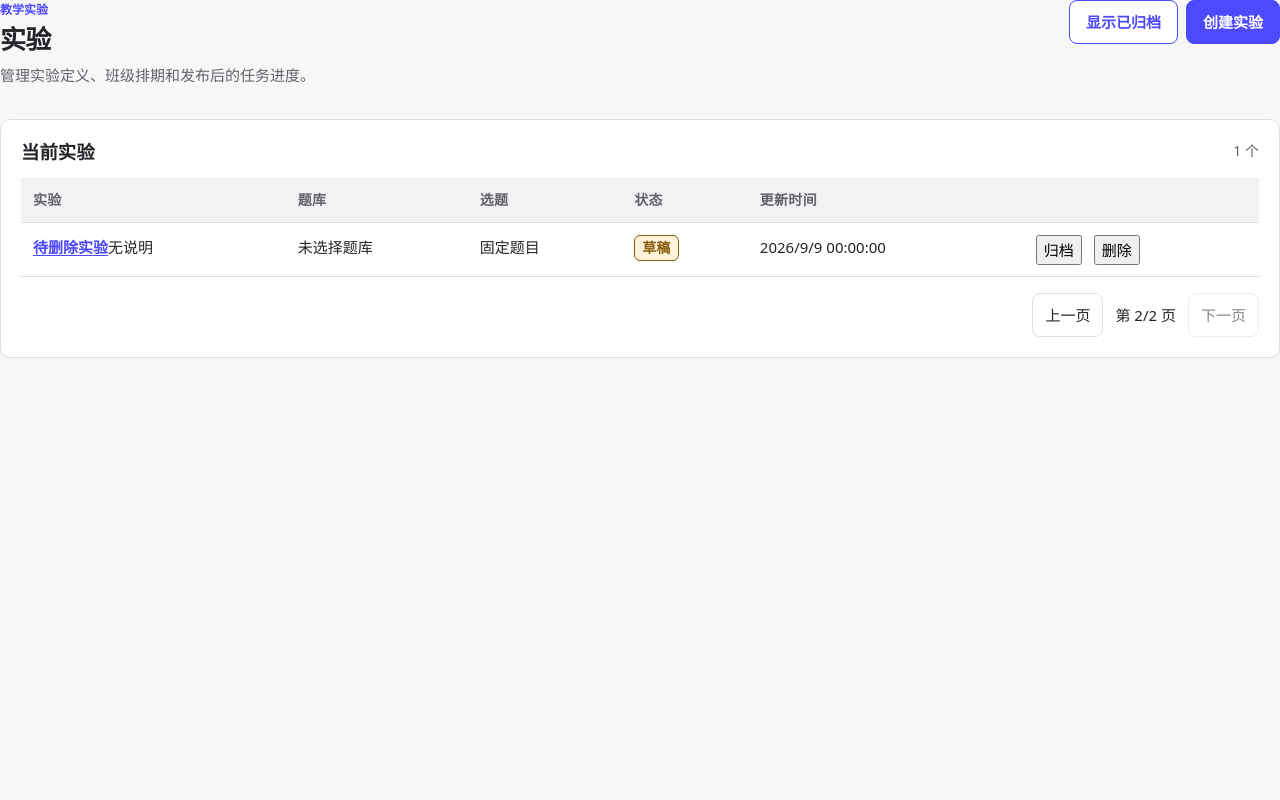
Scenario: TeacherExperimentList deletion › does not offer archiving without the server capability and keeps archive failures visible
This screenshot has width=1280, height=800.
Click the button "归档" at (1059, 250), box [1036,235,1082,265]
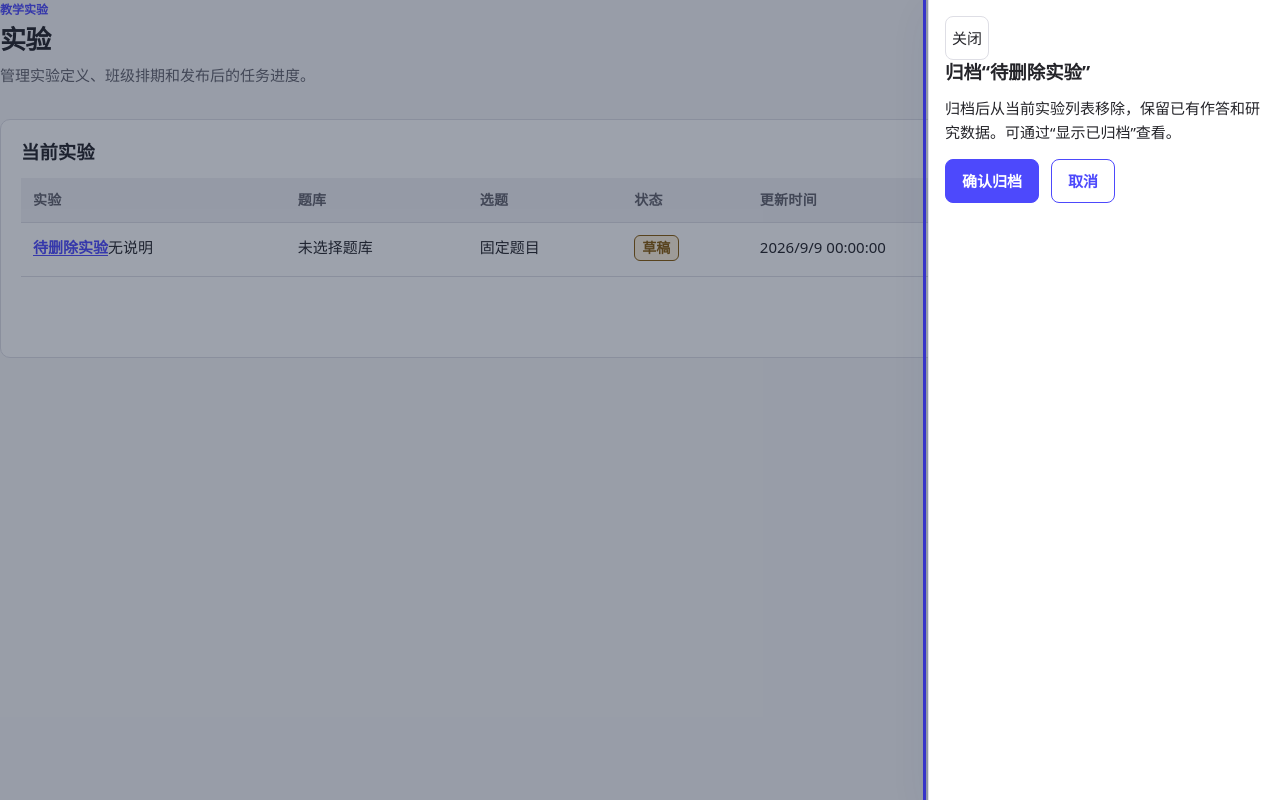
Click the button "确认归档" at (992, 181), box [945,159,1039,203]
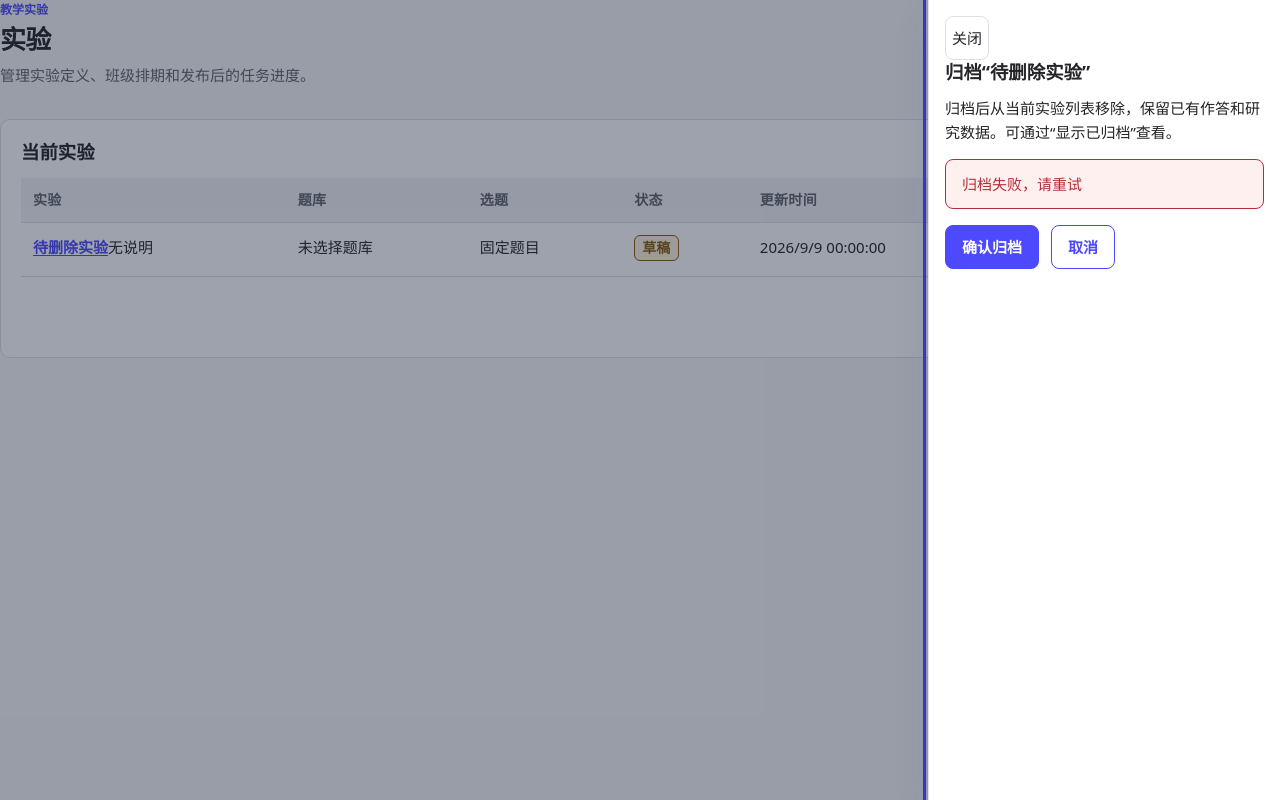
Expected: the dialog is shown, [928,0,1279,799]
Expected: the message "归档失败，请重试" is shown, [945,159,1264,209]
